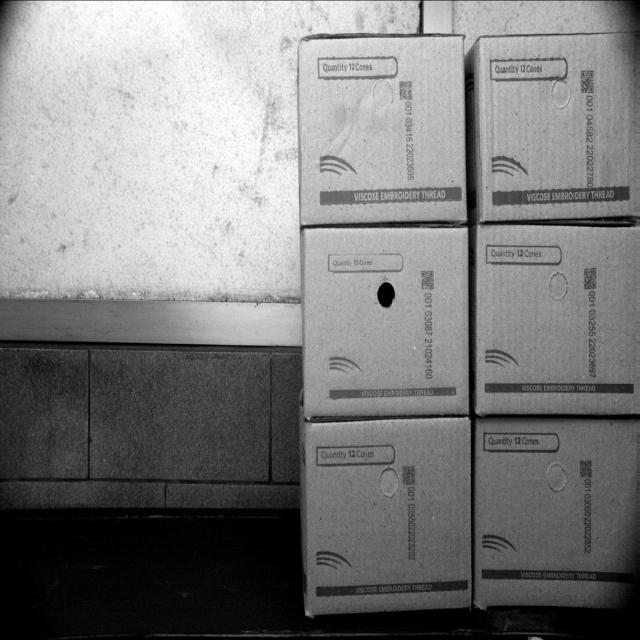cardboxes: (474, 413, 640, 618), (472, 220, 640, 416), (302, 420, 470, 614), (301, 226, 468, 419), (478, 38, 634, 224), (306, 42, 468, 221)
